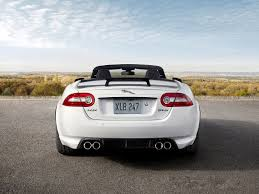car: (55, 62, 202, 158)
